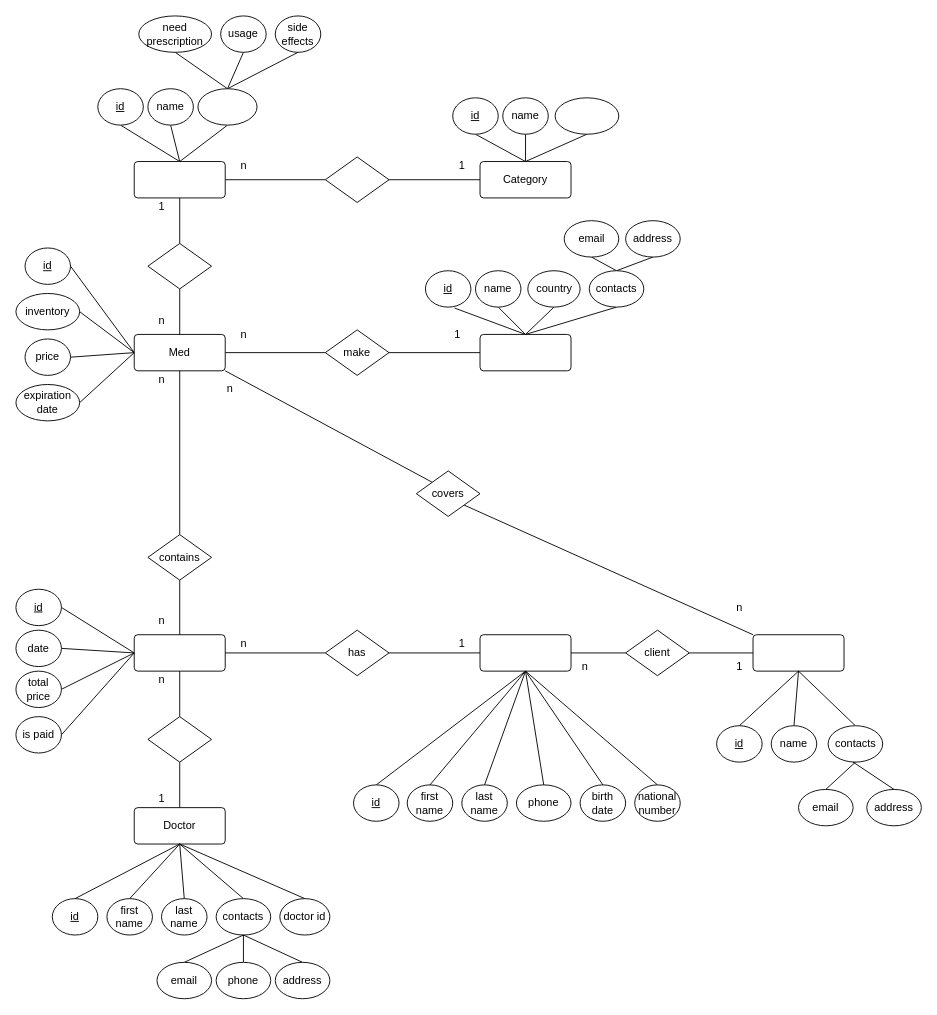
Some shapes in this 937 by 1015 pixel diagram are drawn without their labels. The shapes that lost their labels are listed below. From the top down, each one's centre as x and y in pixels, then its label:
At point (227, 106): "details".
At point (586, 115): "description".
At point (179, 179): "Pharm".
At point (356, 179): "in".
At point (179, 266): "is".
At point (525, 352): "Company".
At point (179, 652): "Prescription".
At point (525, 652): "Patient".
At point (798, 652): "Insurance".
At point (179, 739): "writes".
